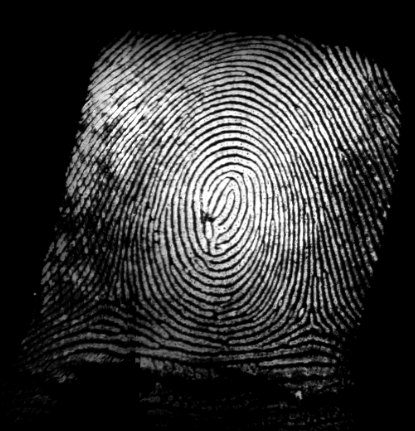deltas: (83, 263, 139, 325), (285, 287, 332, 344)
nucleo: (201, 172, 248, 237)
